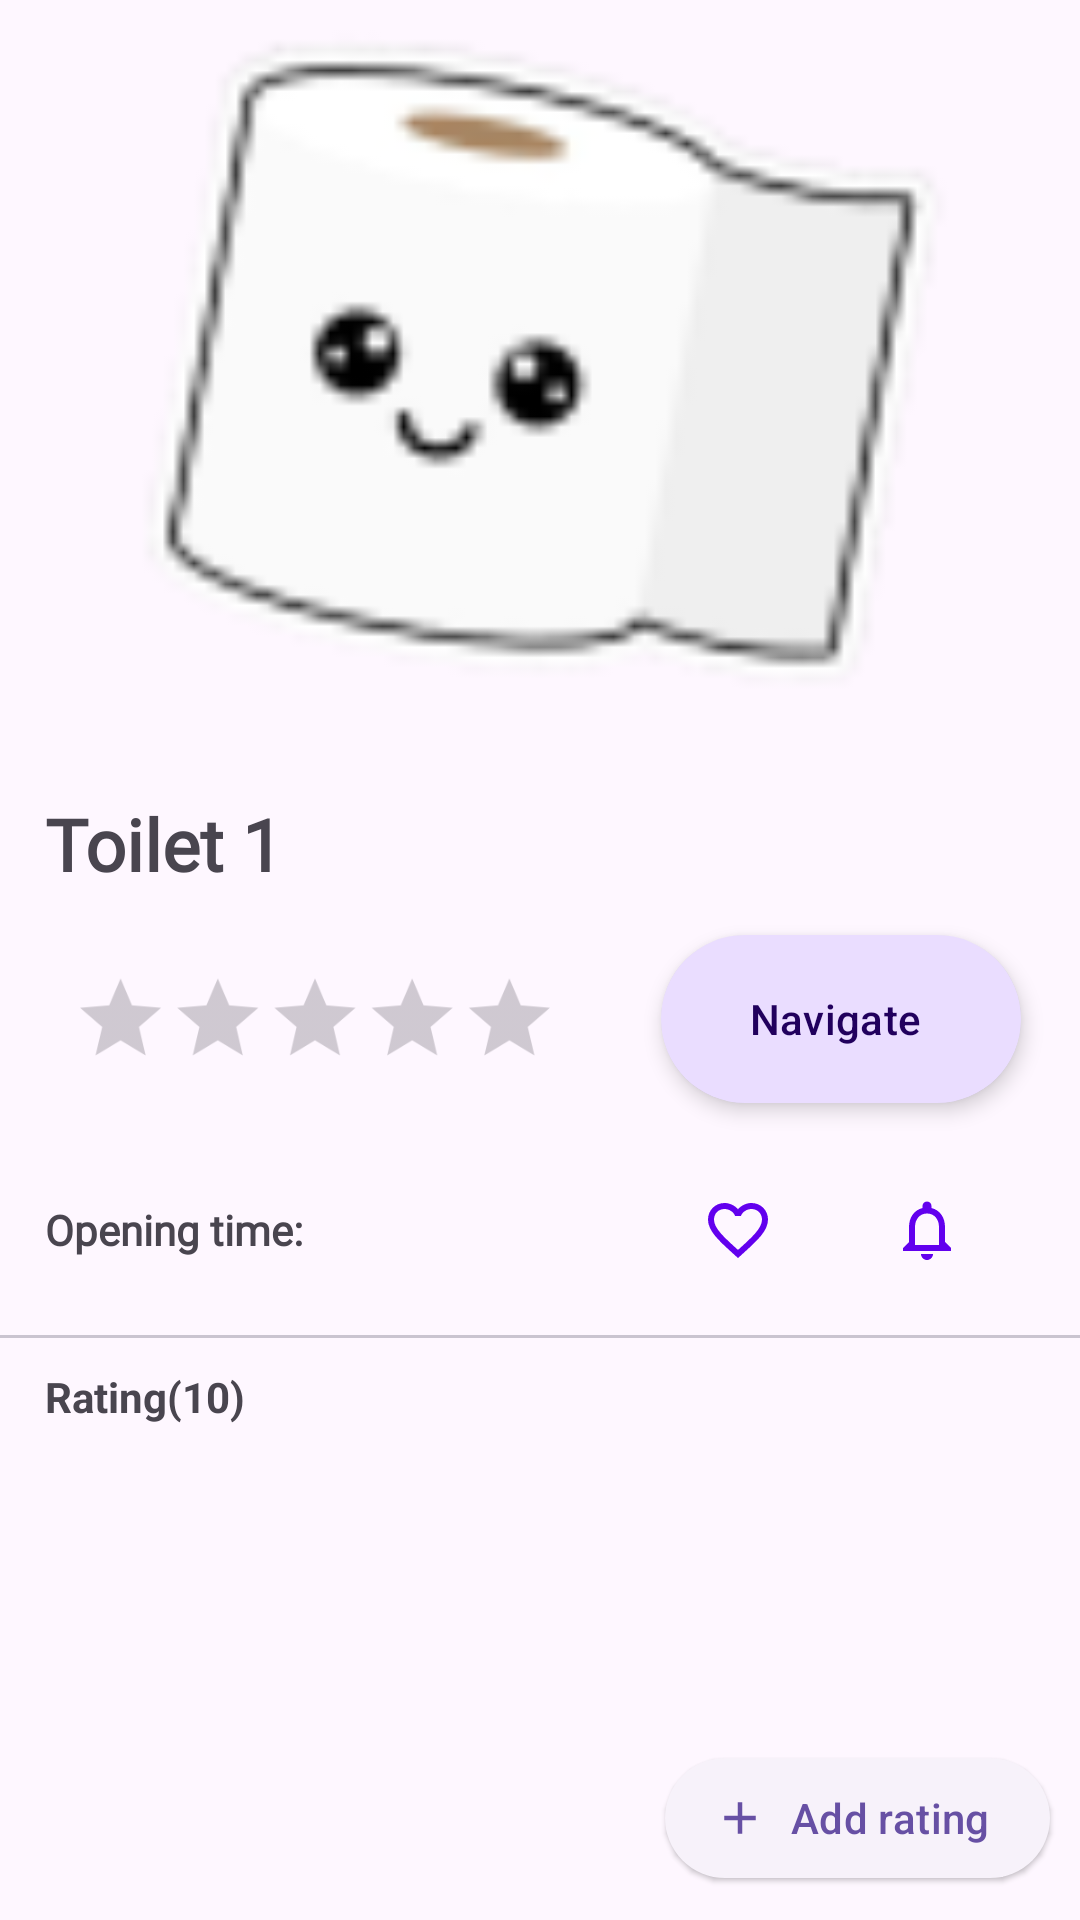

Locate icon controls on the screen. Image size 1080 x 1920, boxes as bbox(x1, y1, x2, y2).
favourite: bbox(708, 1203, 768, 1258)
notifications none: bbox(903, 1201, 951, 1260)
